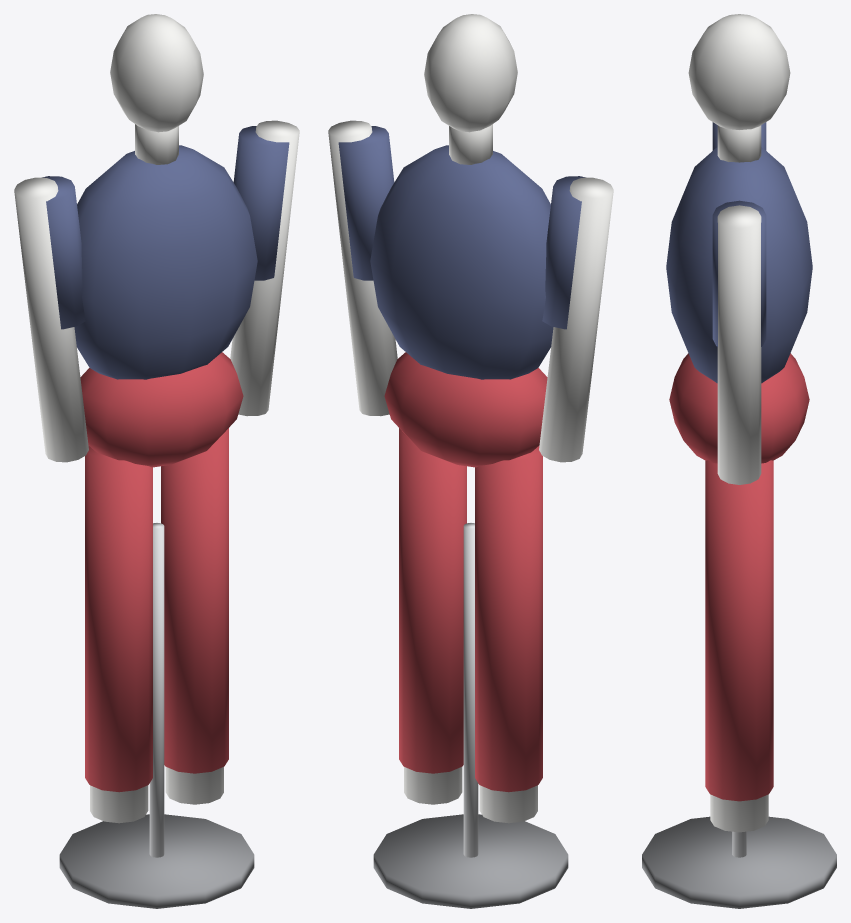
The model's file is mannequin_dressed.glb.
3 renders of one model, left to right at view 1: azimuth 30°, elevation 25°; view 2: azimuth 150°, elevation 25°; view 3: azimuth 270°, elevation 25°, orthographic.
Visible parts, largest first — view 1: mannequin_dressed; view 2: mannequin_dressed; view 3: mannequin_dressed.
Part boxes in pixels (left/top/right/bottom): mannequin_dressed: left=14, top=14, right=299, bottom=908; mannequin_dressed: left=328, top=14, right=613, bottom=908; mannequin_dressed: left=642, top=14, right=836, bottom=908.
Bounding box in the file's own units: 0.6636 × 1.93 × 0.4.
